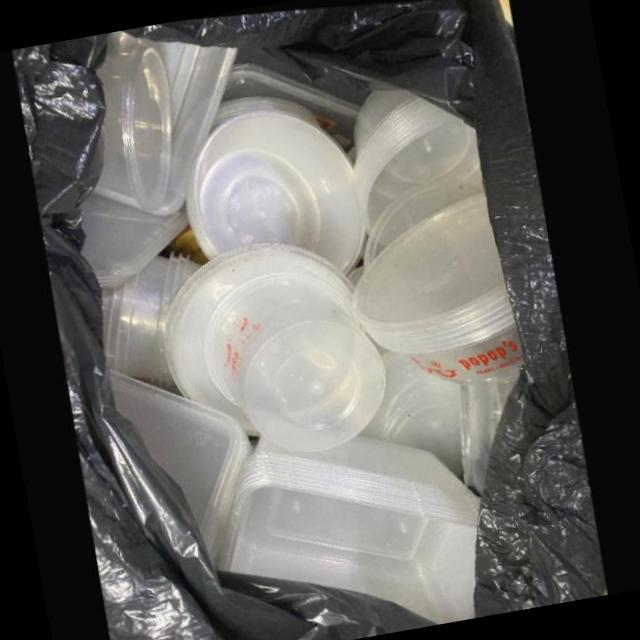hop_nhua: (211, 431, 478, 623), (163, 240, 384, 448), (350, 183, 523, 377), (184, 93, 362, 268), (110, 367, 252, 552), (351, 81, 482, 223), (101, 251, 200, 395), (93, 43, 171, 209)
